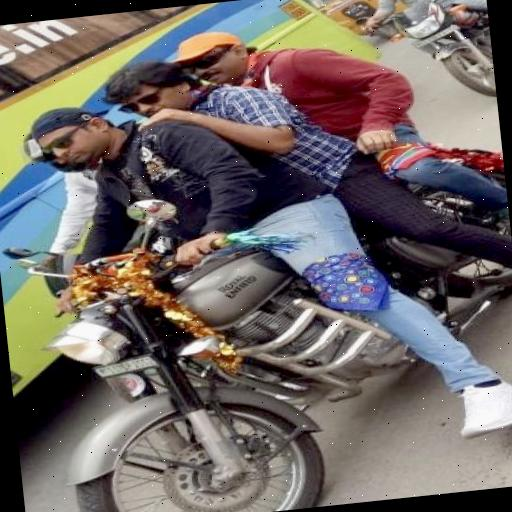no helmet: (14, 94, 282, 330)
triple riding: (10, 8, 456, 330)
